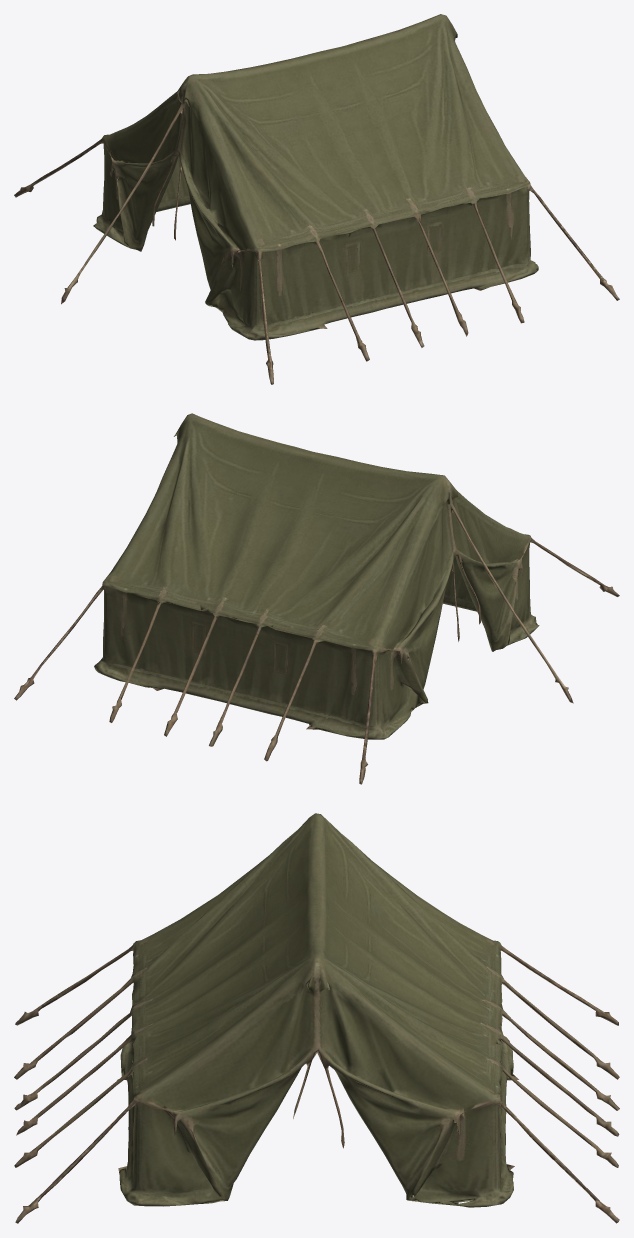
The model's file is prop_tent.glb.
3 views of the same model, one above another, from view 1: azimuth 30°, elevation 25°; view 2: azimuth 150°, elevation 25°; view 3: azimuth 270°, elevation 25° (orthographic). The views are drawn at different scales.
Size of the model in its own units: 0.8321 by 0.3771 by 0.8651.
Materials: 1 (1 with a texture image).
